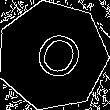O_SW: (21, 23, 84, 88)
